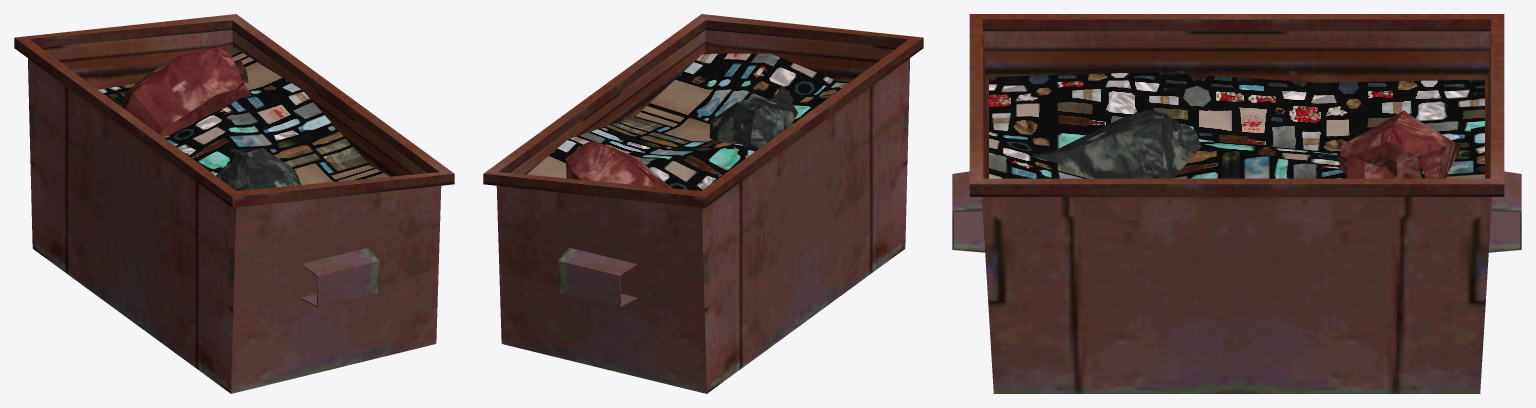
Rendered from Urban_DumpsterDiagonalFullNoLidRed_Model.fbx.
The picture shows the model from 3 angles, left to right: view 1: azimuth 30°, elevation 25°; view 2: azimuth 150°, elevation 25°; view 3: azimuth 270°, elevation 25°; orthographic projection. The views are drawn at different scales.
Visible parts, largest first — view 1: Urban_DumpsterDiagonalFullNoLidRed_Mesh; view 2: Urban_DumpsterDiagonalFullNoLidRed_Mesh; view 3: Urban_DumpsterDiagonalFullNoLidRed_Mesh.
Part boxes in pixels (left/top/right/bottom): Urban_DumpsterDiagonalFullNoLidRed_Mesh: left=14, top=14, right=454, bottom=393; Urban_DumpsterDiagonalFullNoLidRed_Mesh: left=483, top=14, right=923, bottom=393; Urban_DumpsterDiagonalFullNoLidRed_Mesh: left=952, top=14, right=1521, bottom=393.
Size of the model in its own units: 2.03 by 1.8 by 3.67.
